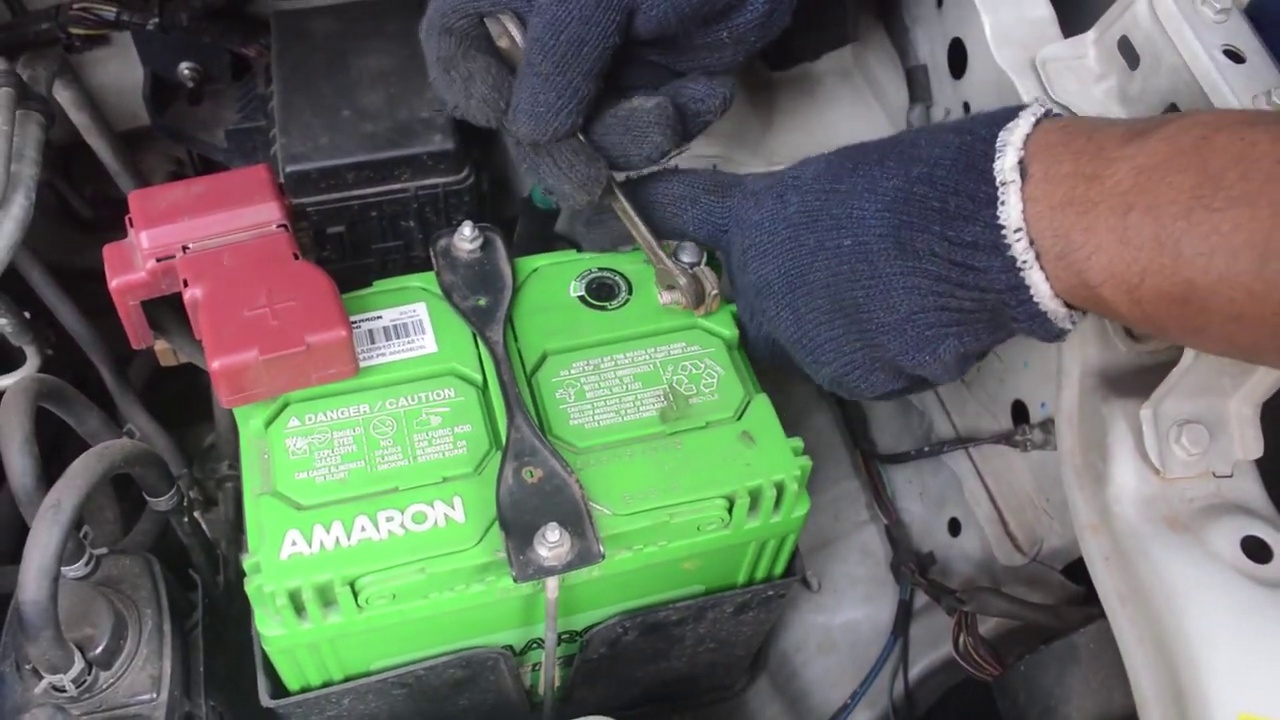battery: (233, 240, 798, 601)
neg_touched: (505, 69, 751, 326)
pos_connected: (151, 244, 365, 407)
